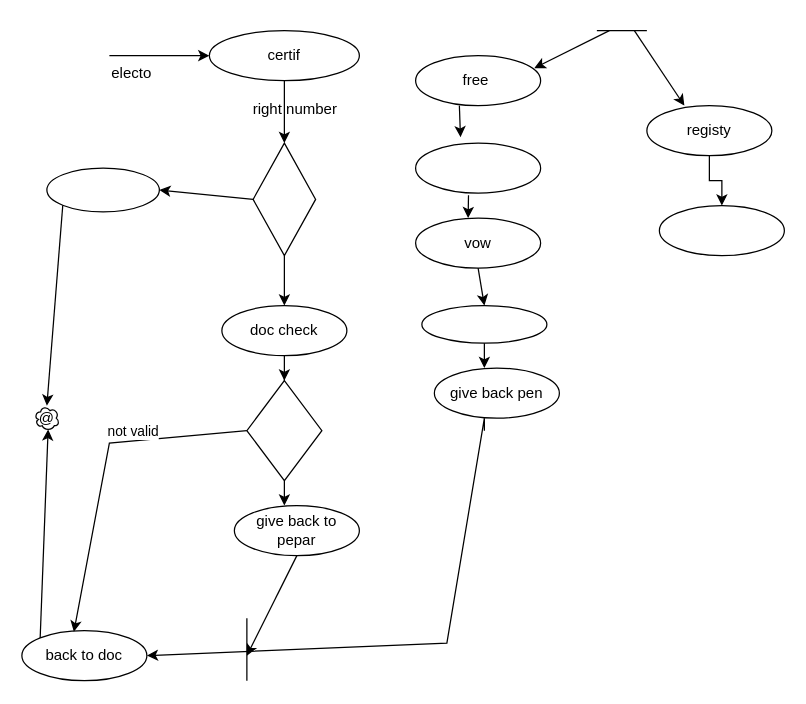
This 806x704 diagram has some shape labels left out. The shapes that lost their labels are listed below. From the top down, each one's centre as x and y in pixels, then its label:
At [477,167]: "asked pen".
At [102,189]: "back to certif".
At [721,230]: "print card".
At [484,323]: "insert pepar".
